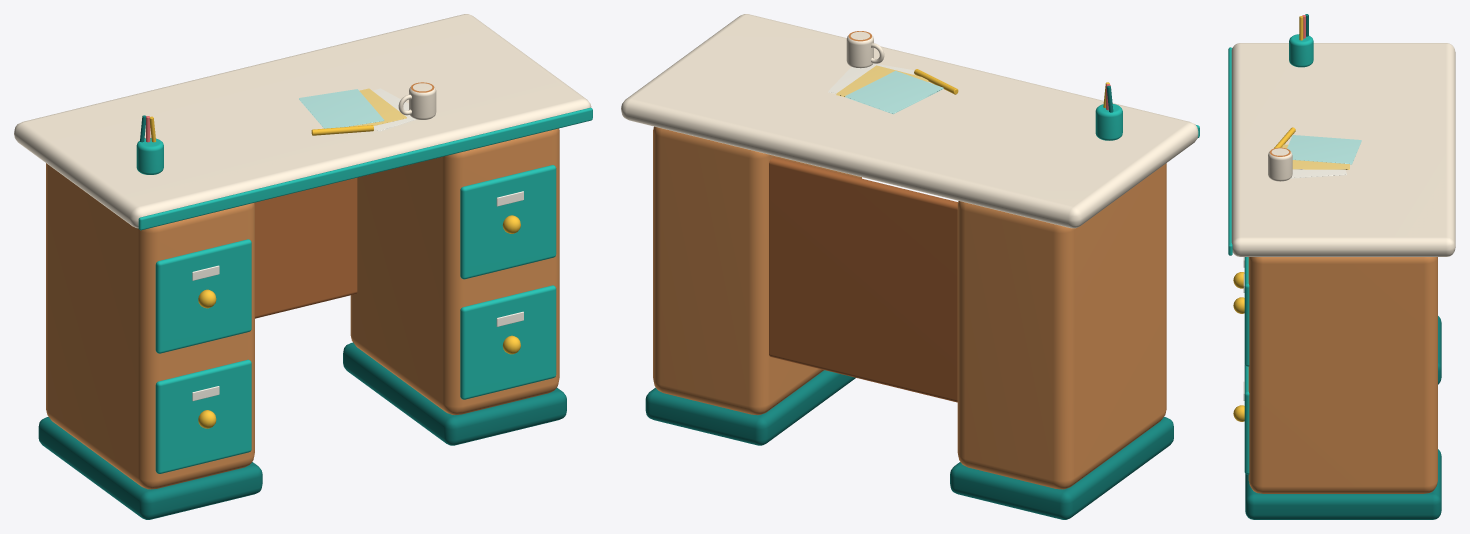
The model's file is Bench.fbx.
The picture shows the model from 3 angles, left to right: view 1: azimuth 30°, elevation 25°; view 2: azimuth 150°, elevation 25°; view 3: azimuth 270°, elevation 25°; orthographic projection. The views are drawn at different scales.
Visible parts, largest first — view 1: Bench mesh; view 2: Bench mesh; view 3: Bench mesh.
Boxes of the visible parts, x1=… form: Bench mesh: x1=14, y1=14, x2=592, y2=519; Bench mesh: x1=621, y1=14, x2=1199, y2=519; Bench mesh: x1=1228, y1=14, x2=1455, y2=519.
Bounding box in the file's own units: 1.36 × 1.06 × 0.648.
